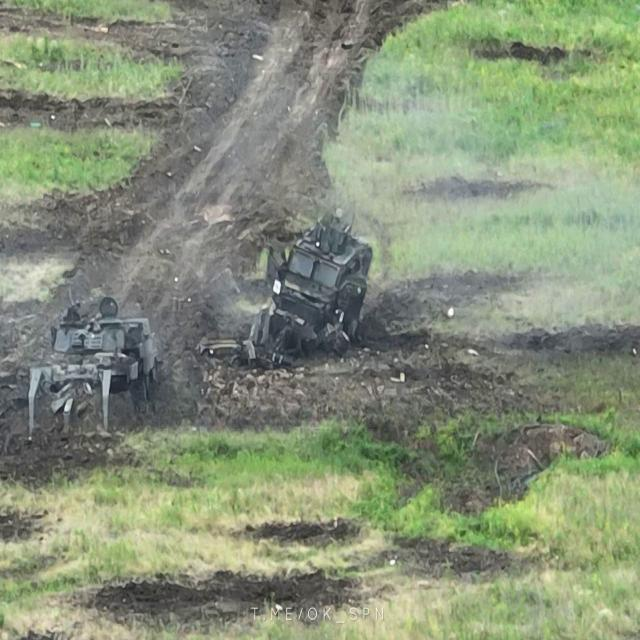Destroyed: (249, 221, 374, 372), (34, 308, 159, 422)
